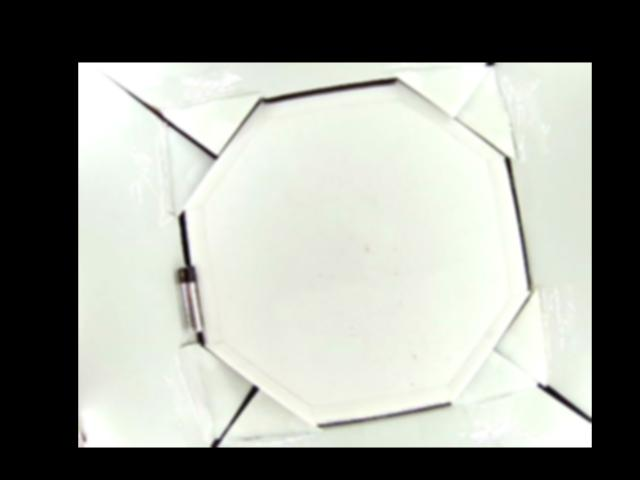Battery: (177, 267, 202, 332)
